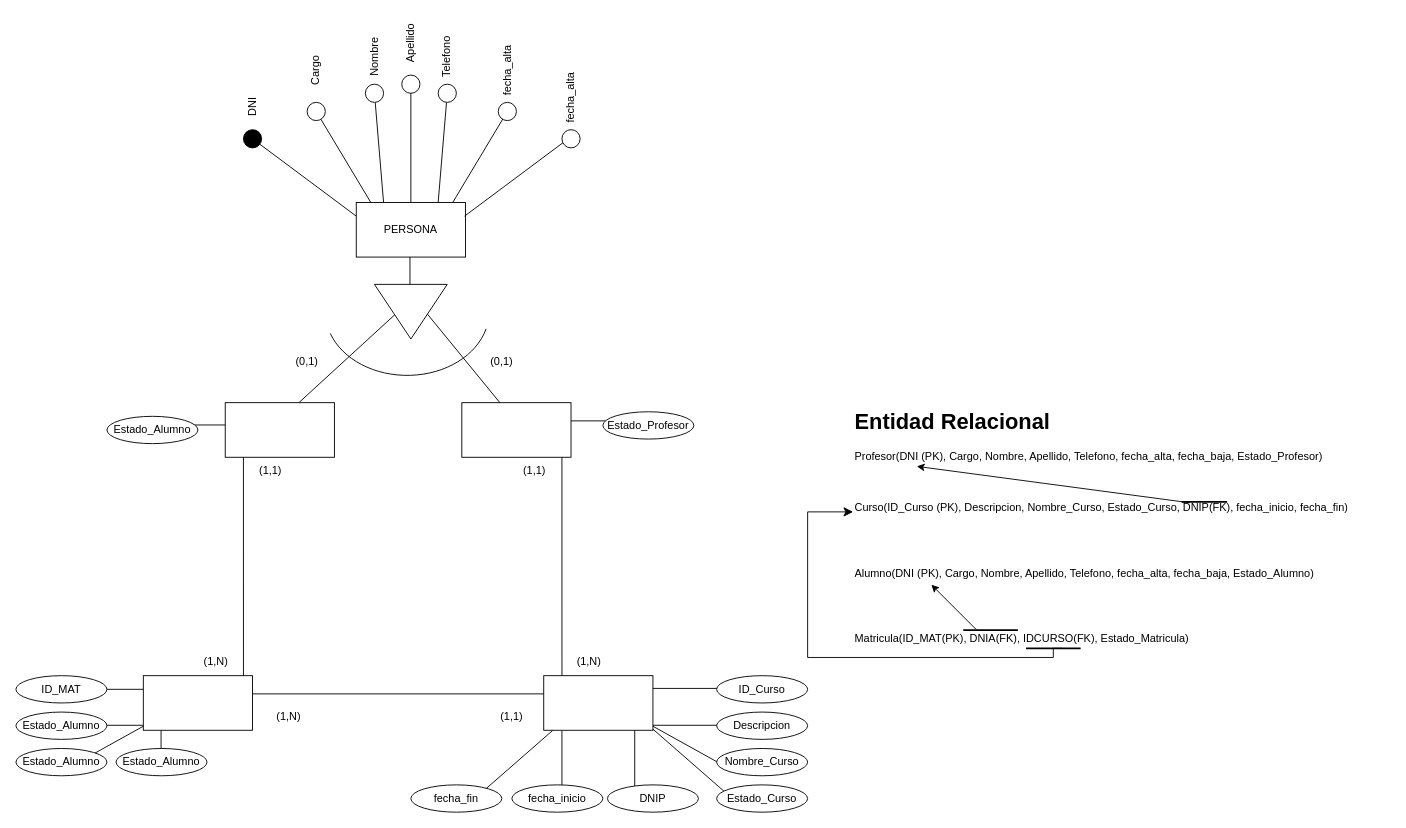
The diagram is 1406 pixels wide and 828 high, and some of its shapes have lost their labels. Here are the shapes that lost their labels. From the top down, the centre of each, then its label:
At point (279, 429): "ALUMNO".
At point (516, 429): "PROFESOR".
At point (197, 702): "MATRICULA".
At point (598, 702): "CURSO".
